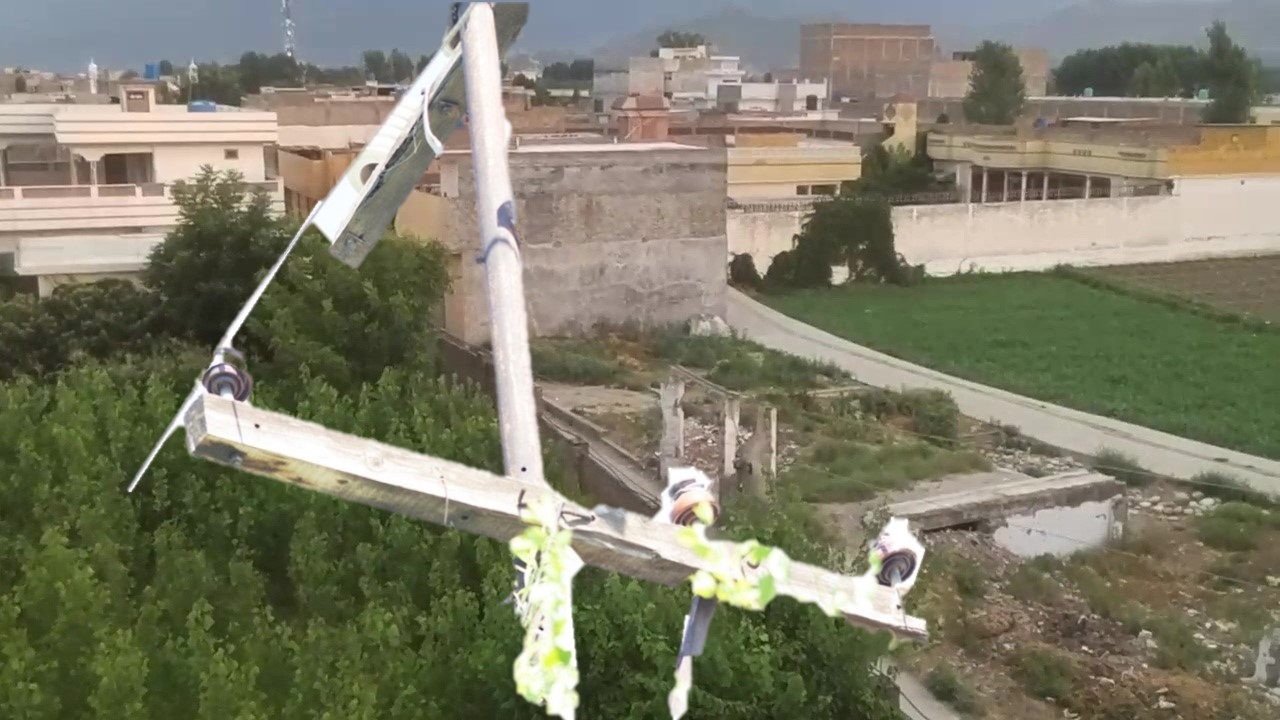defect_pin: (199, 344, 259, 404)
insulator_pin: (870, 516, 929, 591), (660, 467, 723, 536)
